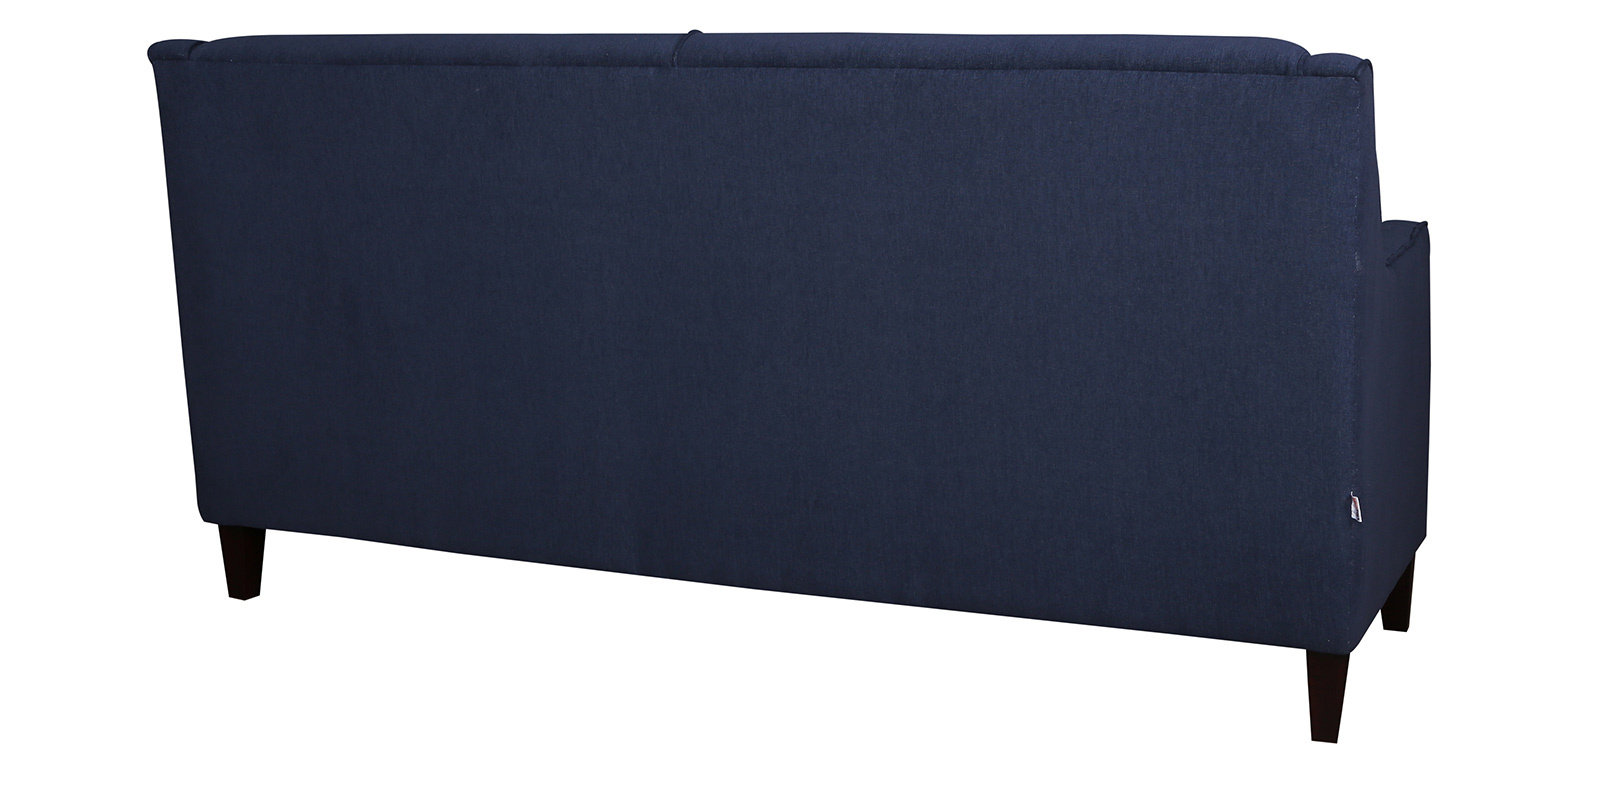Oscar Three Seater Sofa in Navy Blue Colour by CasaCraft: (144, 28, 1430, 744)
